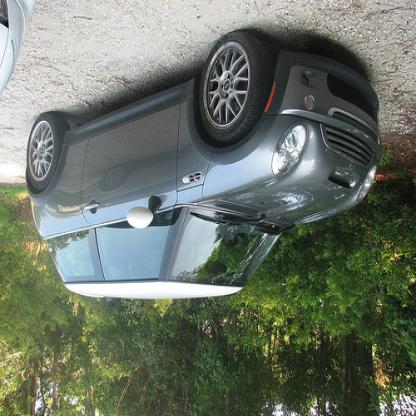car: (26, 30, 381, 303)
